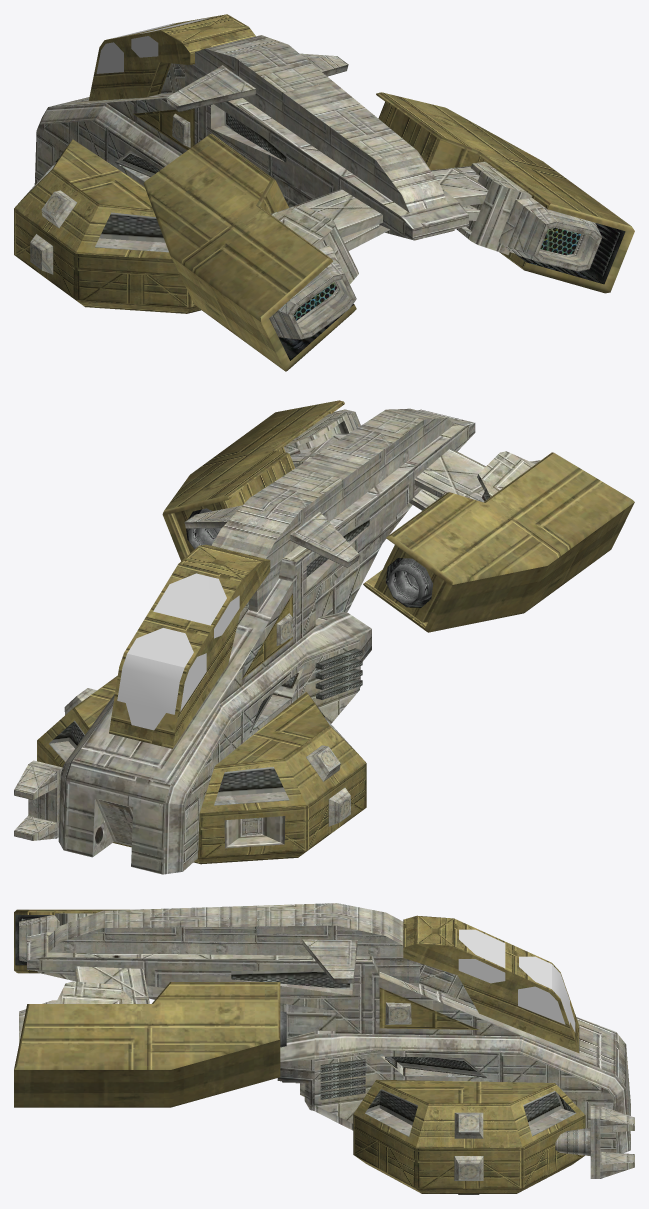
File: Combat Attack Vehicle II.fbx
3 renders of one model, top to bottom at view 1: azimuth 30°, elevation 25°; view 2: azimuth 150°, elevation 25°; view 3: azimuth 270°, elevation 25°, orthographic. The views are drawn at different scales.
Parts seen in each view (by area): view 1: CAVII_utility_panels3, CAVII_utility_panels2, CAVII_utility_panels1, CAVII_engine_equip, CAVII_glass, CAVII_engine_grill; view 2: CAVII_utility_panels2, CAVII_utility_panels3, CAVII_utility_panels1, CAVII_glass, CAVII_engine_intake; view 3: CAVII_utility_panels2, CAVII_utility_panels3, CAVII_utility_panels1, CAVII_glass.
Boxes of the visible parts, x1,y1,x2,y2 form: CAVII_utility_panels3: (14, 14, 634, 371); CAVII_utility_panels2: (30, 35, 602, 339); CAVII_utility_panels1: (26, 104, 286, 269); CAVII_engine_equip: (278, 223, 625, 360); CAVII_glass: (96, 17, 209, 73); CAVII_engine_grill: (293, 227, 581, 320); CAVII_utility_panels2: (14, 408, 540, 874); CAVII_utility_panels3: (37, 400, 634, 864); CAVII_utility_panels1: (49, 516, 369, 856); CAVII_glass: (117, 573, 239, 730); CAVII_engine_intake: (187, 508, 432, 603); CAVII_utility_panels2: (19, 903, 634, 1194); CAVII_utility_panels3: (14, 909, 585, 1193); CAVII_utility_panels1: (231, 970, 630, 1180); CAVII_glass: (458, 929, 575, 1032).
Size of the model in its own units: 169 by 116 by 281.
6 materials, 6 textured.
